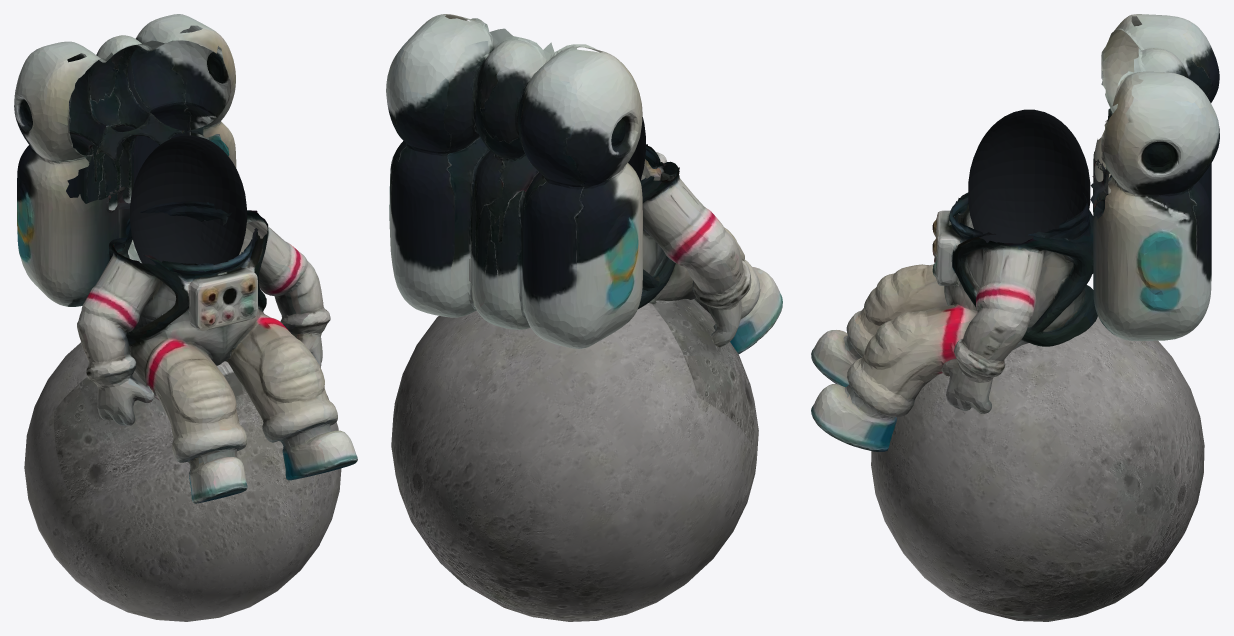
Rendered from astronaut_body.glb.
3 views of the same model, side by side, from view 1: azimuth 30°, elevation 25°; view 2: azimuth 150°, elevation 25°; view 3: azimuth 270°, elevation 25° (orthographic). The views are drawn at different scales.
Visible parts, largest first — view 1: Moon_Cube005, Moon_Cube005_1, Moon_Cube005_2; view 2: Moon_Cube005_1, Moon_Cube005; view 3: Moon_Cube005, Moon_Cube005_1, Moon_Cube005_2.
Boxes of the visible parts, x1,y1,x2,y2 form: Moon_Cube005: [14, 14, 357, 503]; Moon_Cube005_1: [24, 342, 341, 621]; Moon_Cube005_2: [130, 135, 246, 264]; Moon_Cube005_1: [391, 299, 758, 621]; Moon_Cube005: [386, 14, 782, 353]; Moon_Cube005: [811, 14, 1219, 451]; Moon_Cube005_1: [871, 316, 1204, 621]; Moon_Cube005_2: [968, 109, 1090, 243].
Bounding box in the file's own units: 1.07 × 1.98 × 1.32.
3 materials, 2 textured.
